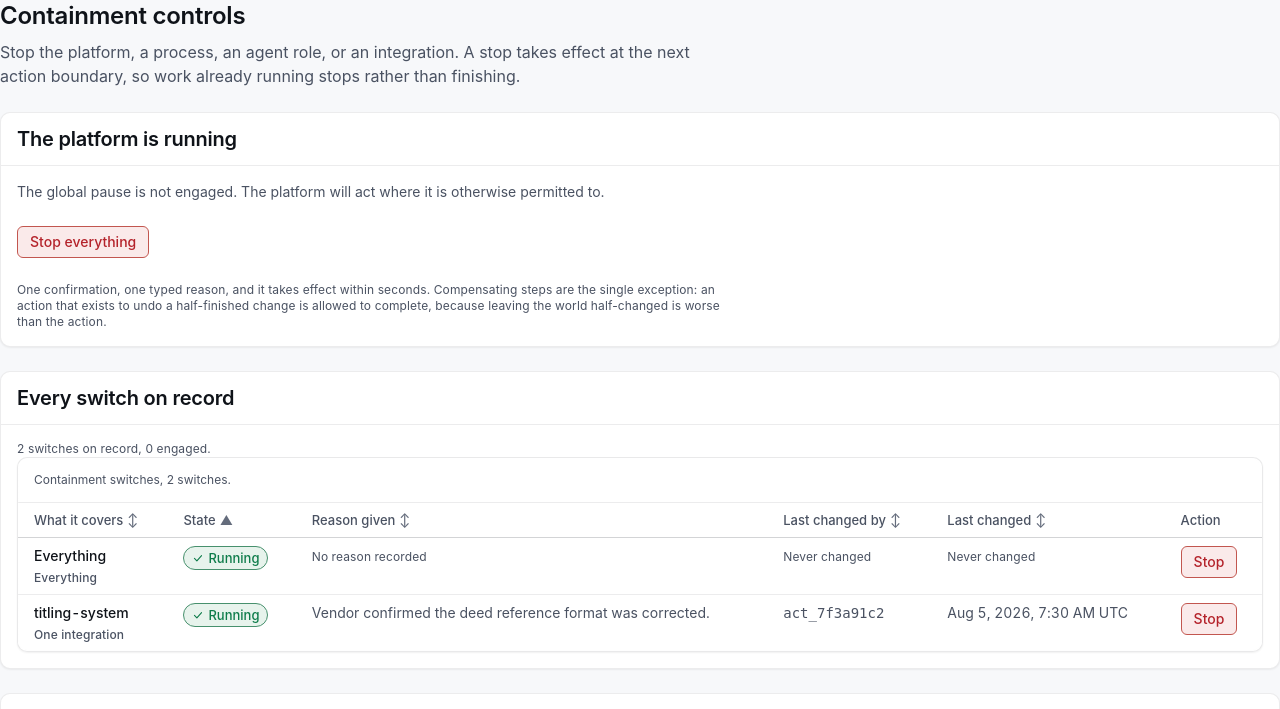
Test: ContainmentControls › makes the global pause an explicit confirmation that says what it stops
Click the button "Stop everything". click: [83, 242]
box: [17, 226, 149, 258]
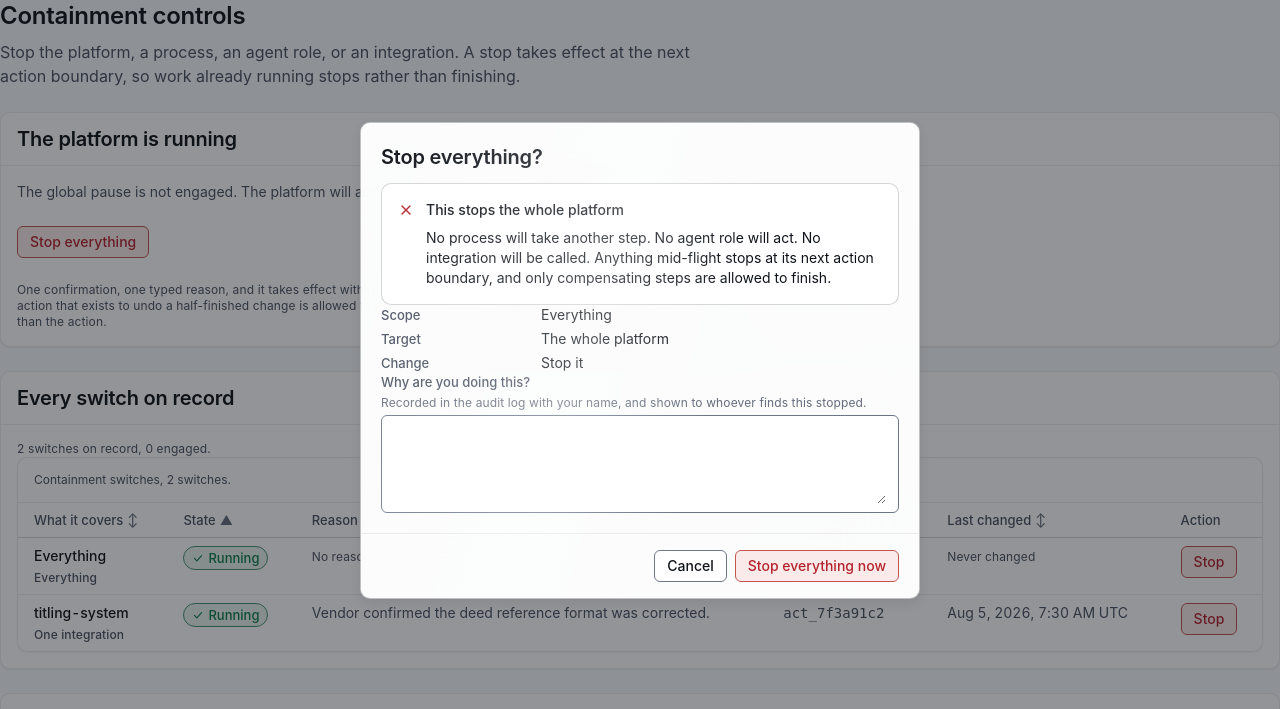
Expected: the text "This stops the whole platform" is shown, [425, 200, 624, 218]
Expected: the text "only compensating steps are allowed to finish" is shown, [426, 228, 874, 286]
